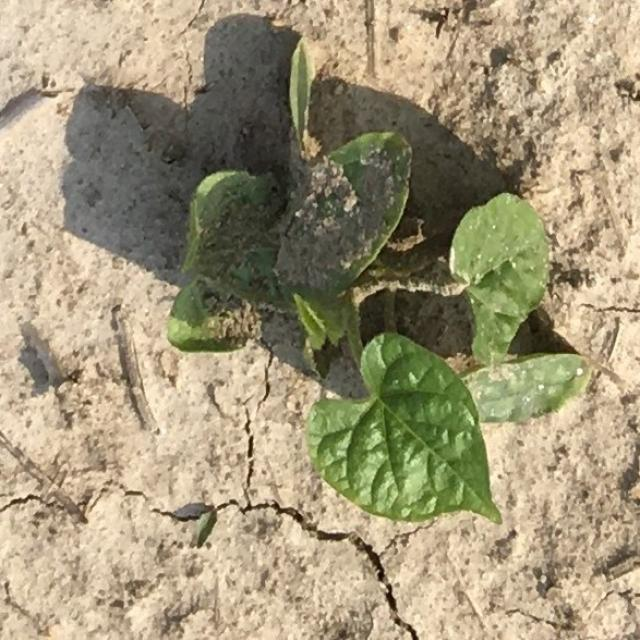MorningGlory: (166, 38, 591, 526)
